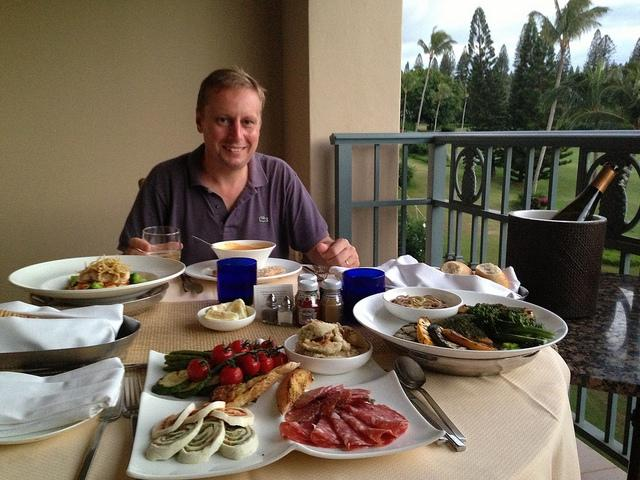tomato: (236, 354, 265, 376), (210, 340, 233, 366), (187, 358, 211, 382), (220, 366, 243, 385), (258, 352, 276, 376), (230, 340, 250, 353)
